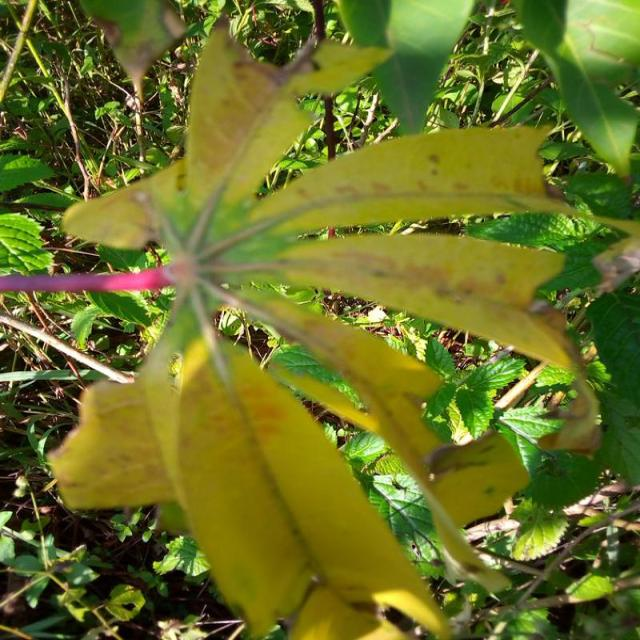cassava leaf: (44, 13, 602, 638)
